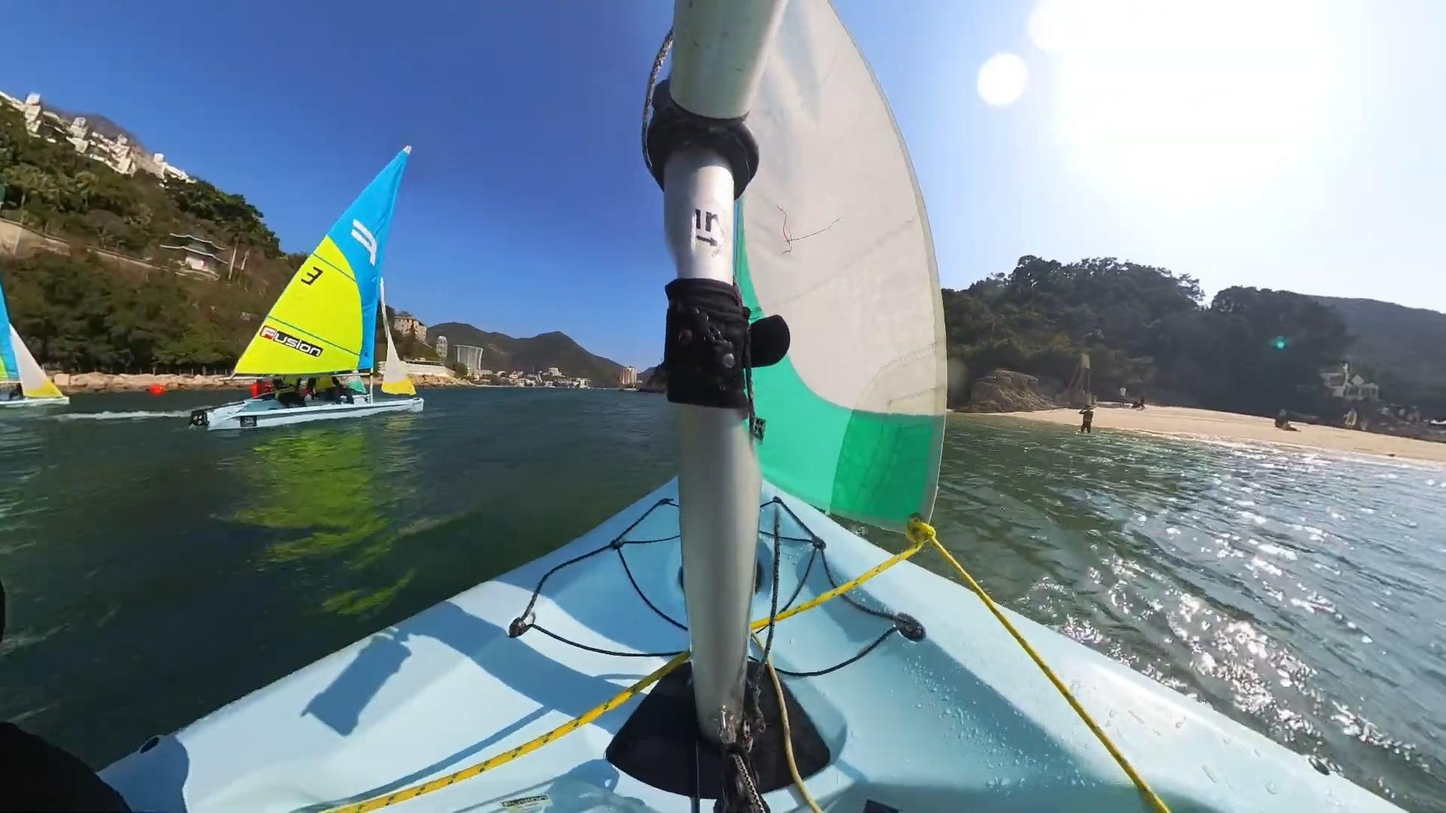boat: (102, 0, 1408, 813)
land: (943, 258, 1446, 467), (0, 92, 306, 391), (388, 311, 641, 389)
person: (0, 723, 133, 813)
sea: (0, 388, 676, 771), (926, 416, 1446, 813)
sky: (0, 0, 679, 368), (832, 0, 1446, 315)
